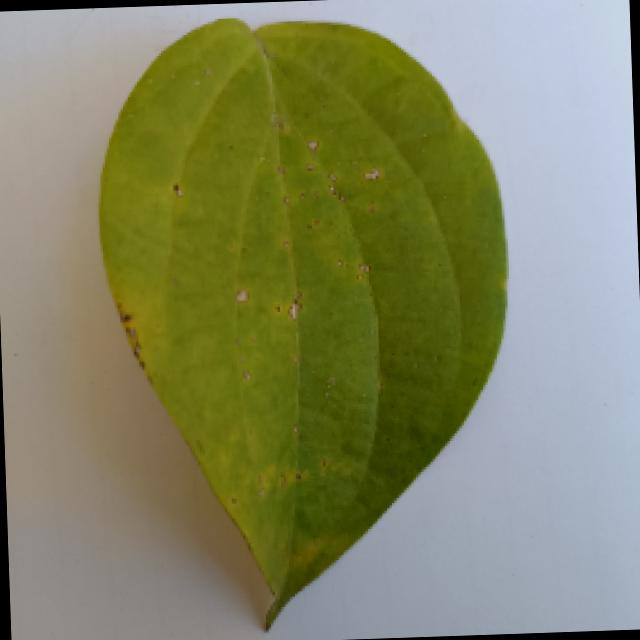slow-decline: (42, 23, 548, 640)
